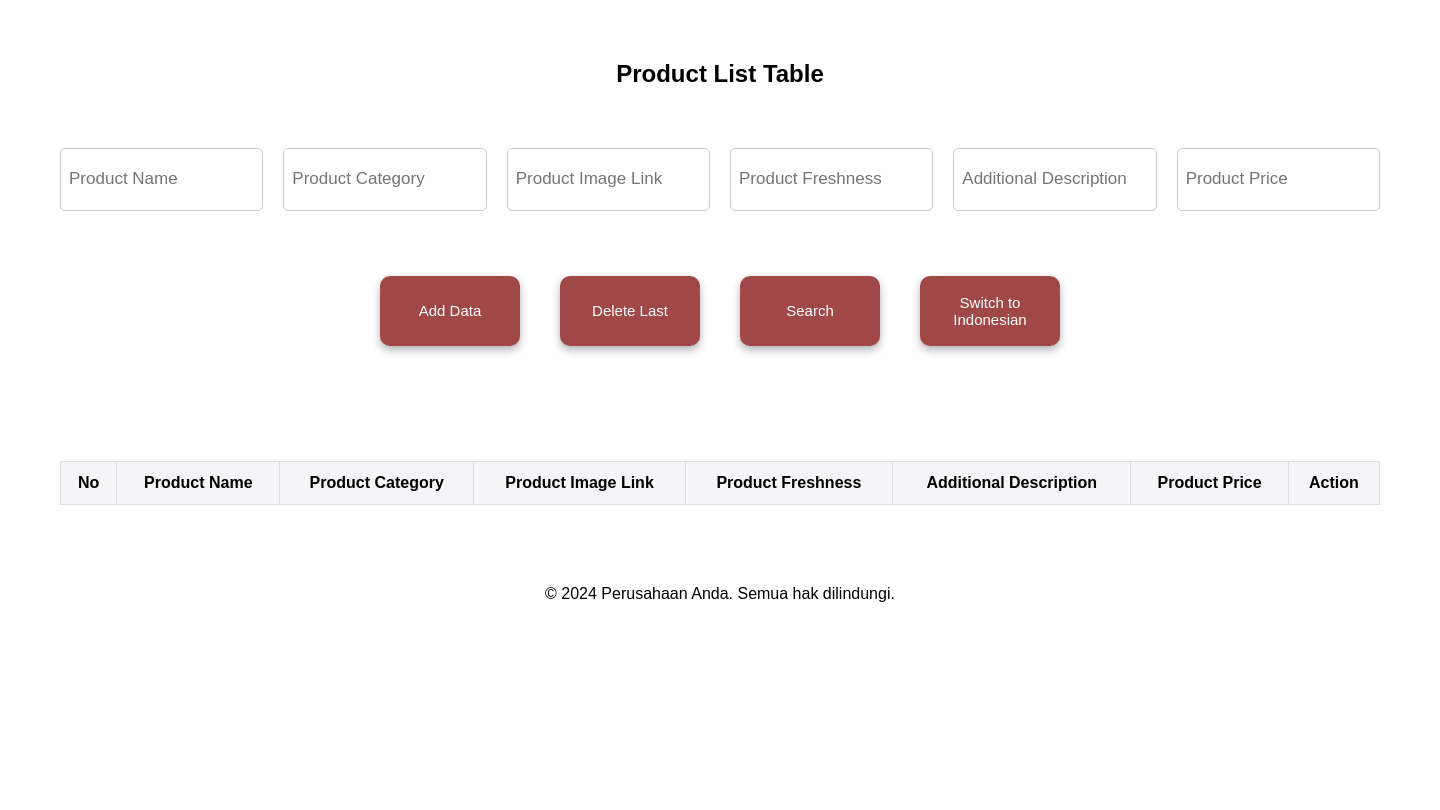
Scenario: CreateProduct Component › should save and display form selections correctly
This screenshot has width=1440, height=810.
Mengisi semua field input
Type "Produk Uji" into the field with placeholder "Product Name" at (162,179), box [60,148,263,211]
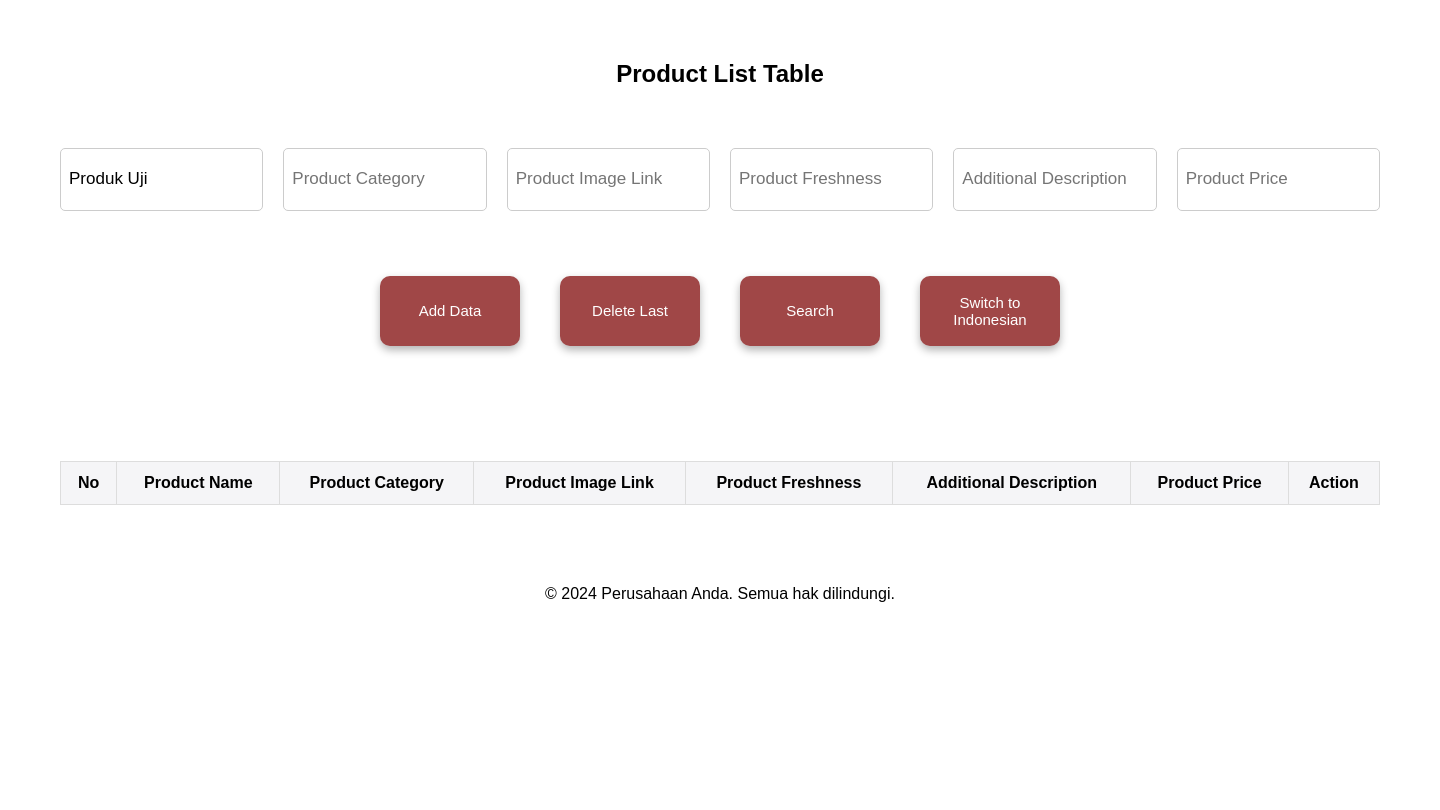
Type "Kategori Uji" into the field with placeholder "Product Category" at (385,179), box [283,148,487,211]
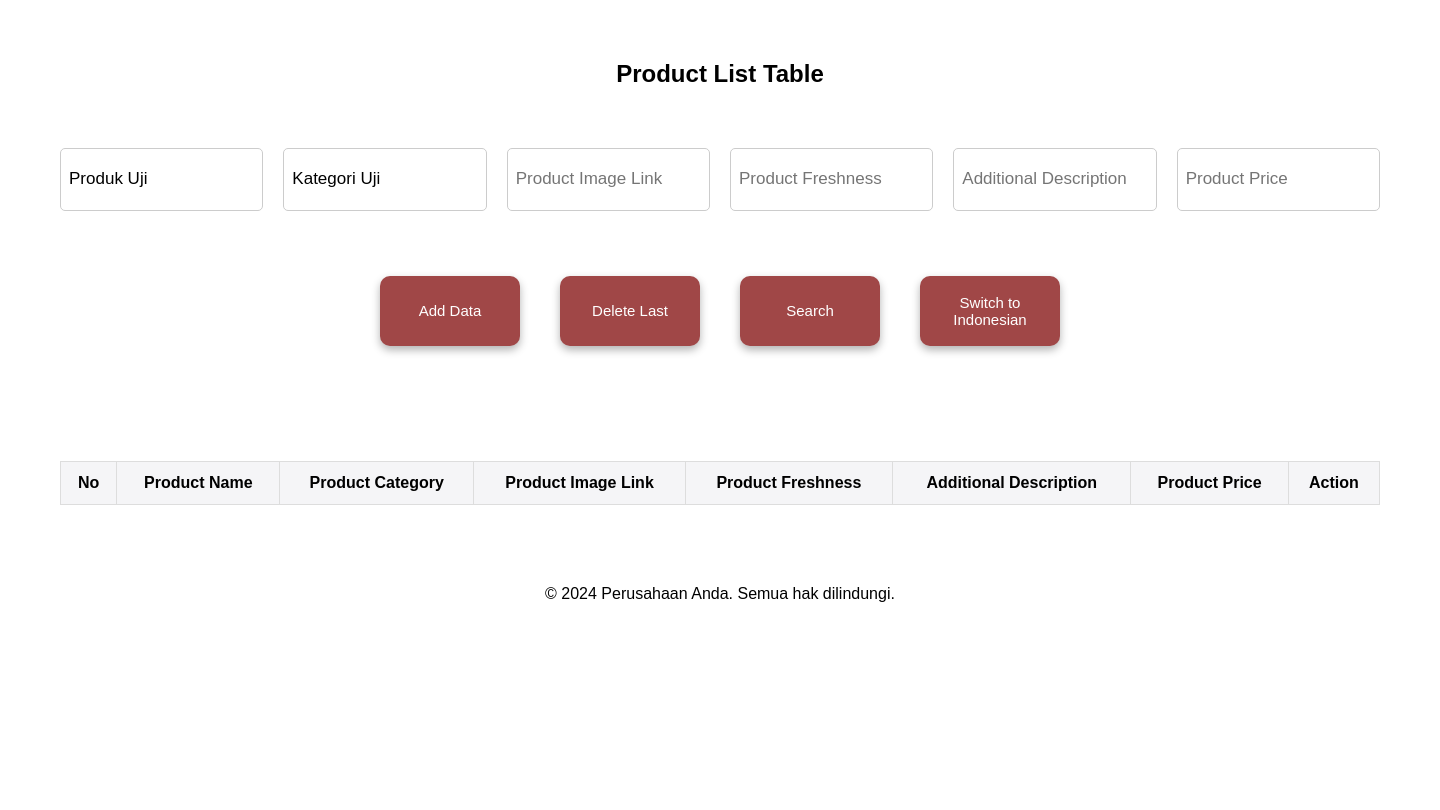
Type "http://example.com/image.jpg" into the field with placeholder "Product Image Link" at (608,179), box [507,148,710,211]
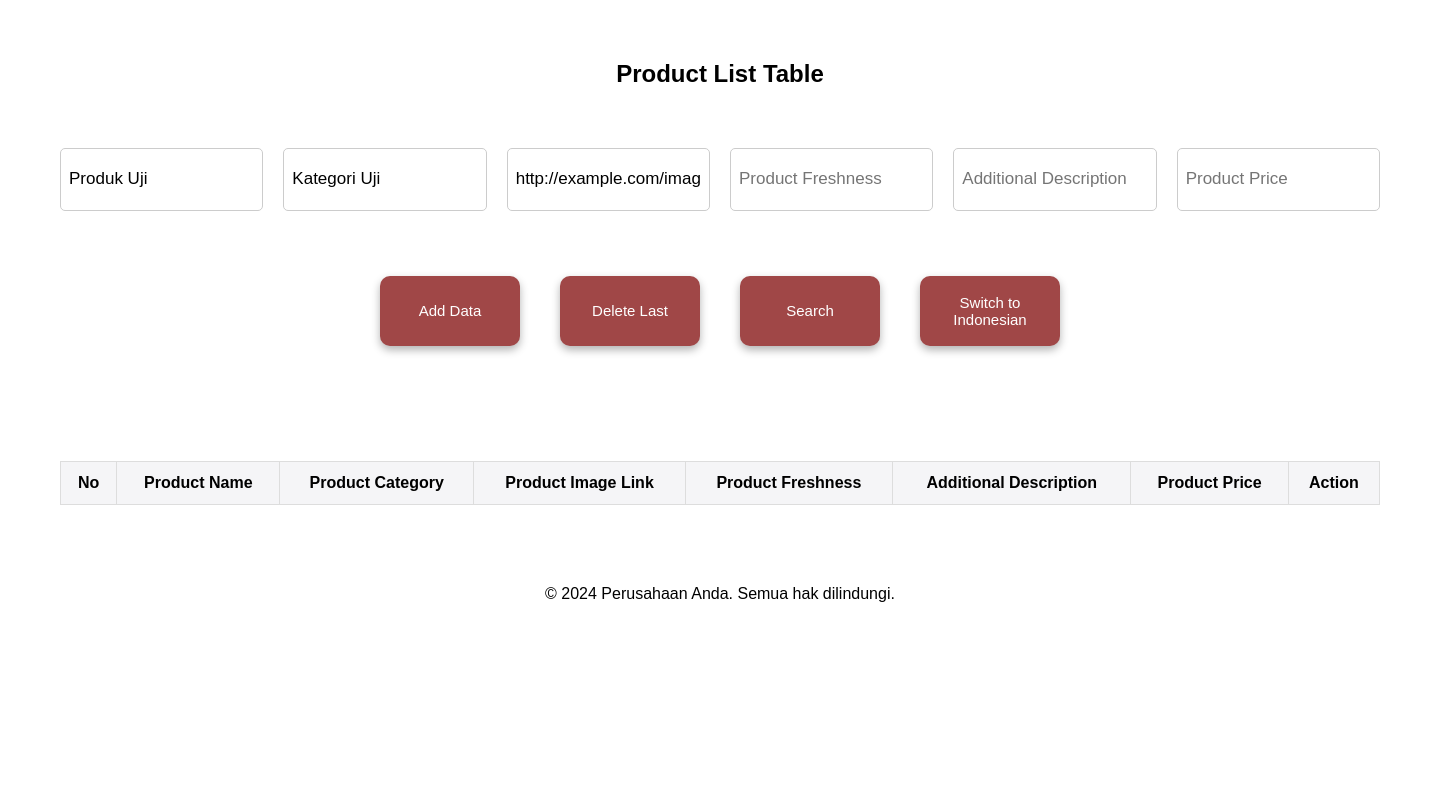
Type "Deskripsi Uji" into the field with placeholder "Additional Description" at (1055,179), box [953,148,1157,211]
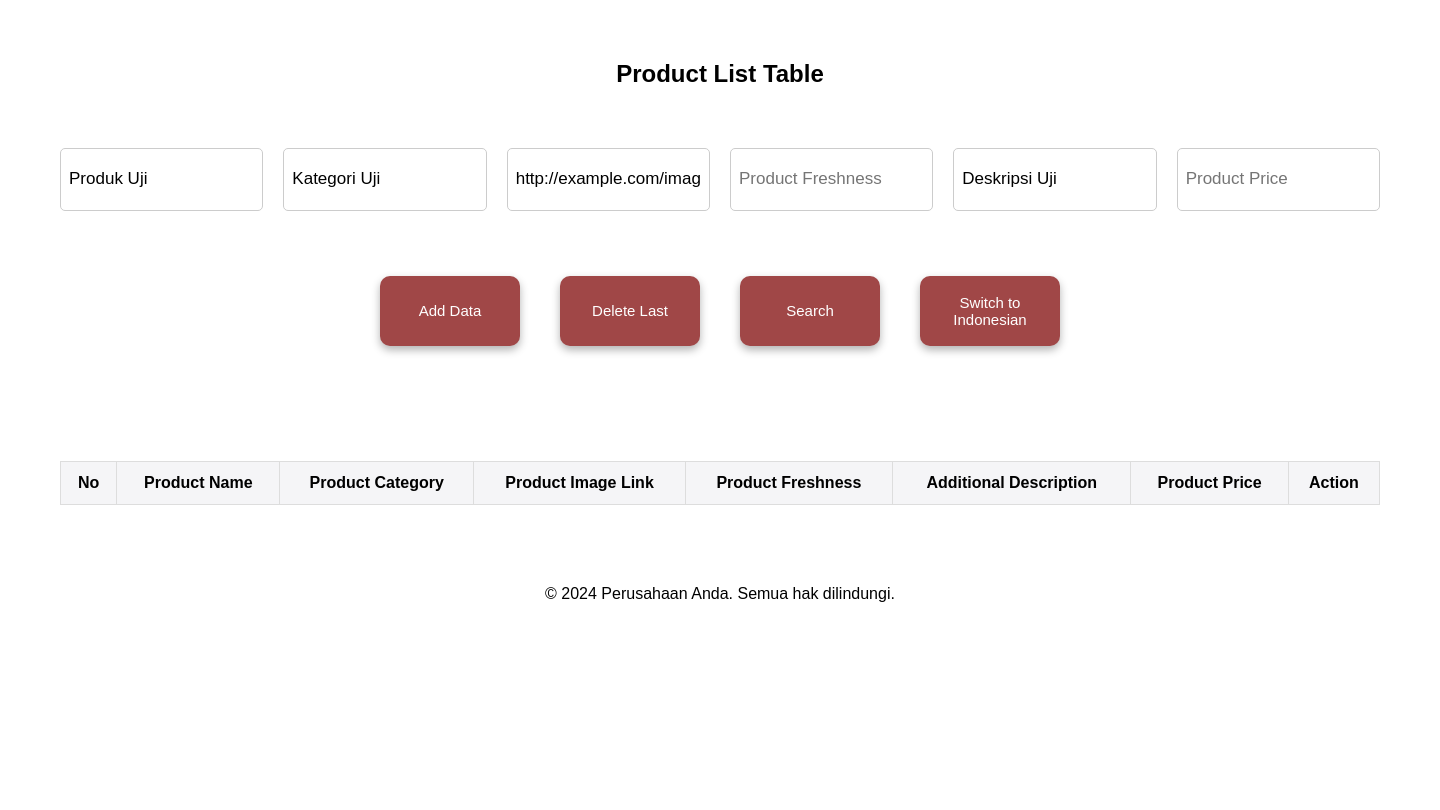
Type "100000" into the field with placeholder "Product Price" at (1278,179), box [1177,148,1380,211]
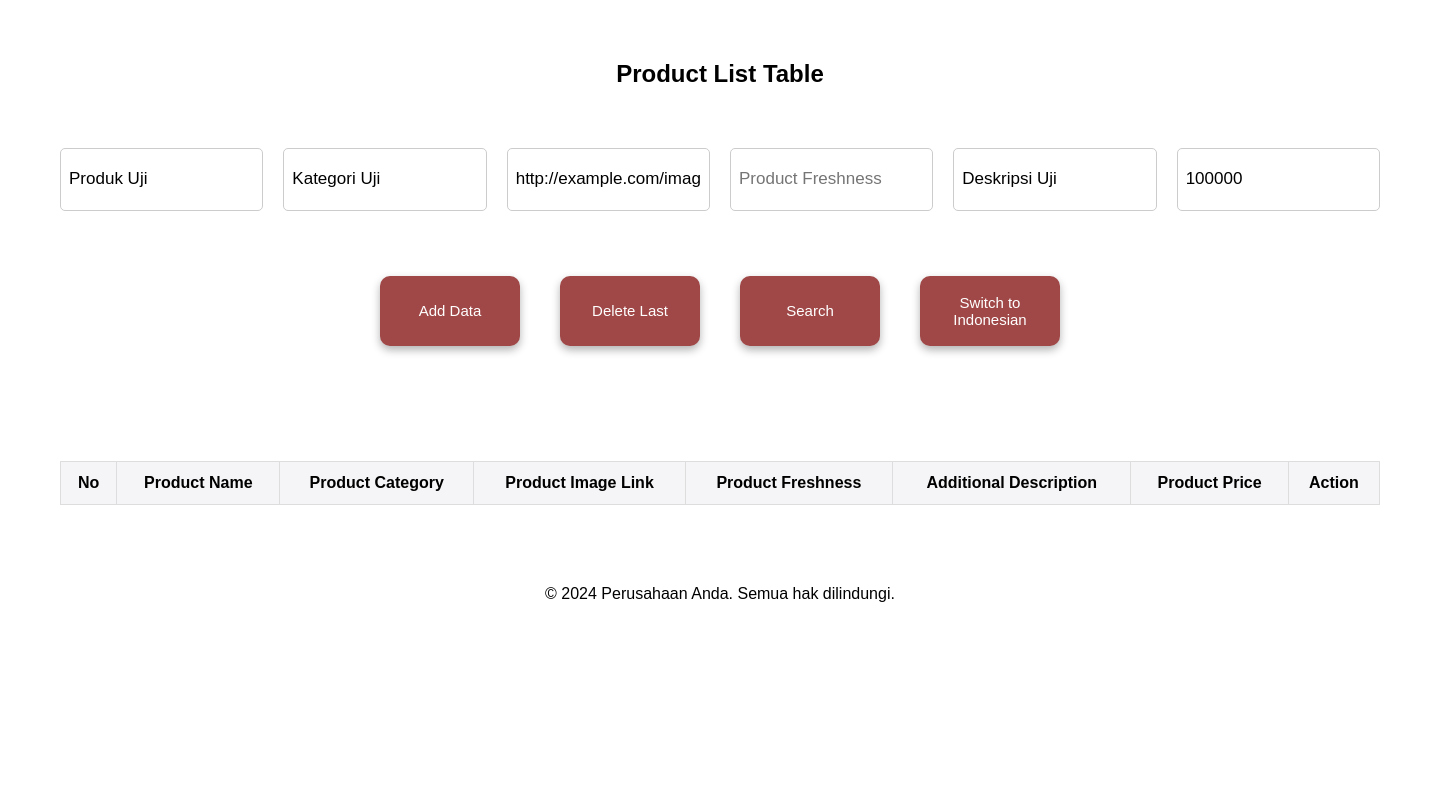
Menambahkan data
Click the button "Add Data" at (450,311), box [380,276,520,346]
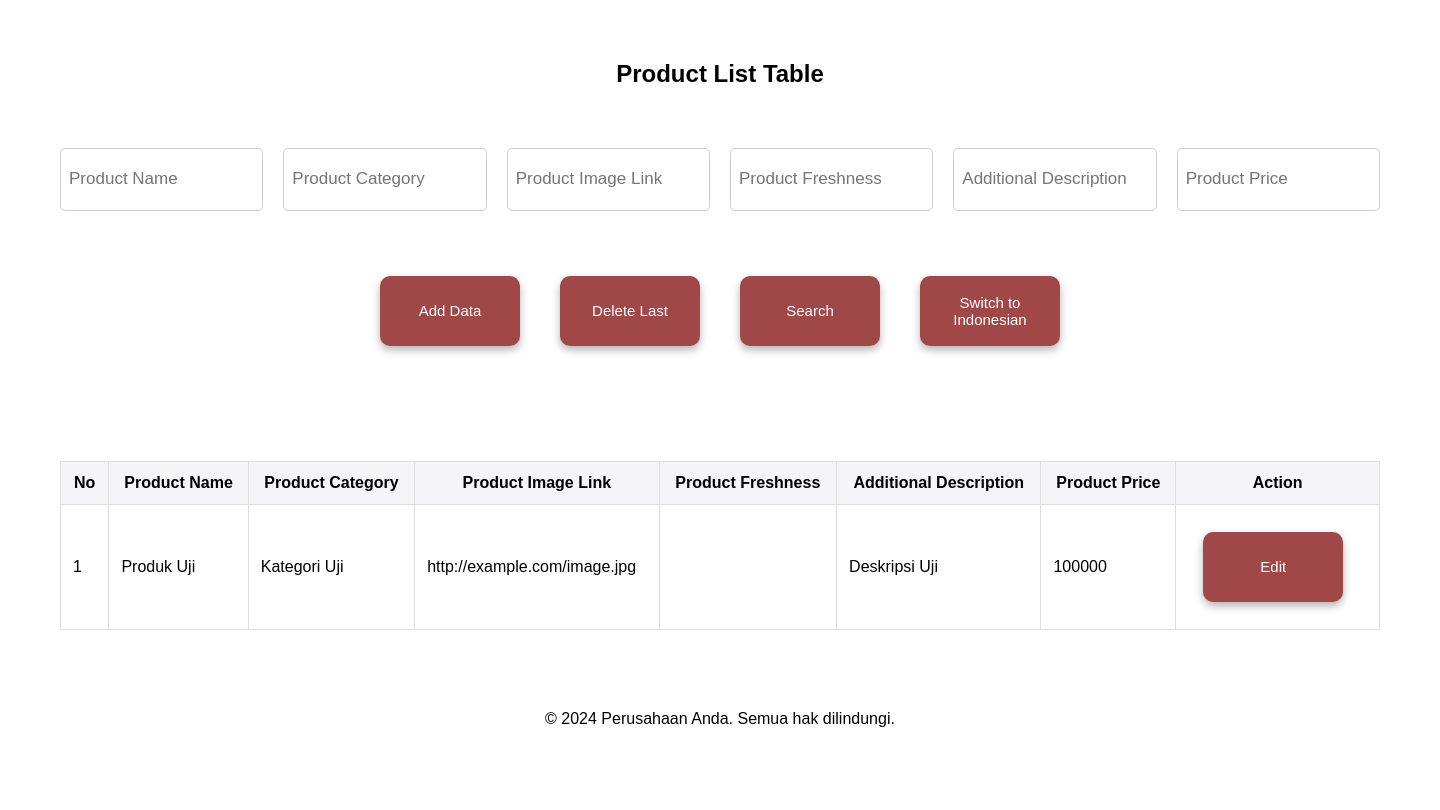
Now the text "Produk Uji" is shown, box [109,504,248,629]
